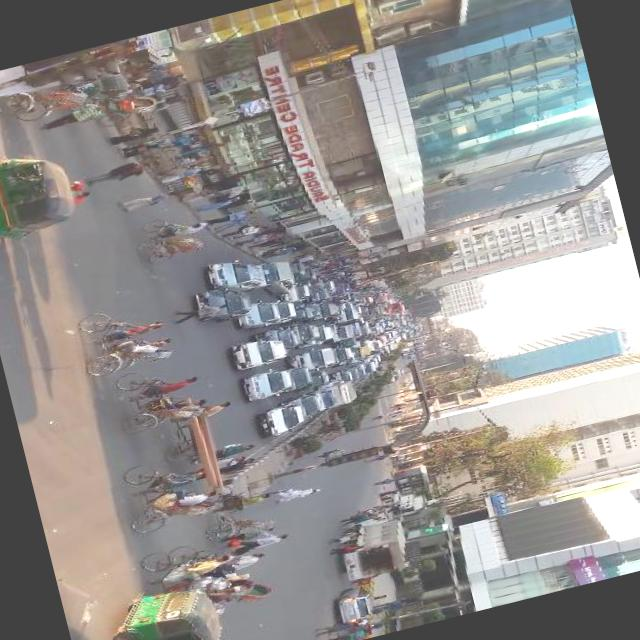bus: (344, 344, 372, 362), (365, 302, 390, 320), (368, 292, 392, 308), (386, 302, 406, 316), (392, 318, 408, 329)
car: (191, 282, 255, 330), (203, 253, 264, 300), (230, 334, 290, 374), (240, 364, 294, 405), (255, 402, 308, 439), (331, 584, 376, 626), (234, 296, 283, 332), (283, 392, 326, 426), (265, 296, 300, 326), (280, 280, 312, 306), (329, 369, 354, 387), (356, 366, 366, 381), (351, 368, 362, 381), (388, 374, 401, 384)
motorcycle: (152, 387, 252, 505), (0, 136, 79, 248), (72, 298, 178, 379), (125, 450, 222, 536), (105, 576, 230, 640), (110, 356, 208, 436), (190, 534, 276, 614), (196, 474, 280, 546), (0, 75, 90, 129), (134, 210, 208, 268), (88, 80, 159, 129), (278, 306, 314, 326), (305, 277, 328, 296), (294, 266, 318, 284), (290, 258, 306, 276), (384, 419, 403, 432)
truck: (334, 512, 414, 586), (284, 345, 338, 378), (286, 344, 338, 376), (247, 258, 295, 290), (256, 324, 302, 357), (312, 381, 358, 413), (280, 321, 320, 352), (294, 323, 338, 350), (304, 298, 342, 325), (324, 321, 364, 344), (325, 343, 354, 368), (332, 306, 360, 326), (327, 281, 352, 301), (355, 360, 379, 378), (306, 287, 331, 304), (369, 338, 384, 352), (369, 352, 384, 365), (378, 334, 391, 344), (384, 342, 396, 352), (362, 324, 372, 336), (380, 346, 391, 356), (372, 326, 383, 336)
